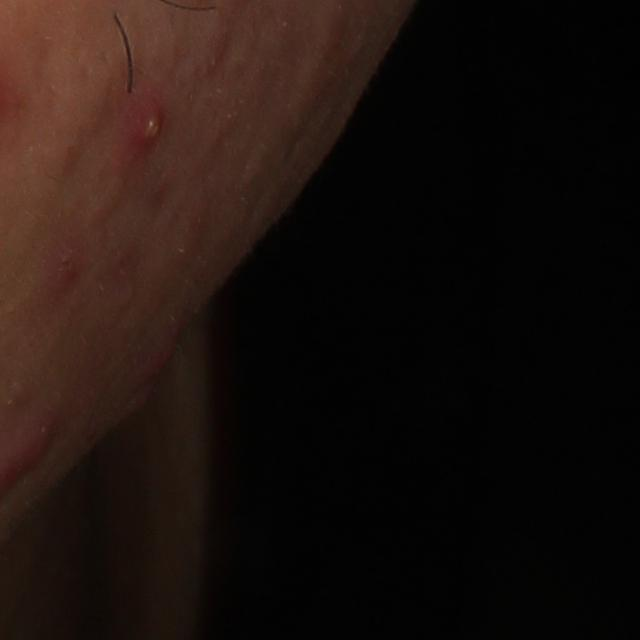papule: (138, 335, 177, 391), (52, 249, 87, 295)
pustule: (126, 91, 170, 148)
